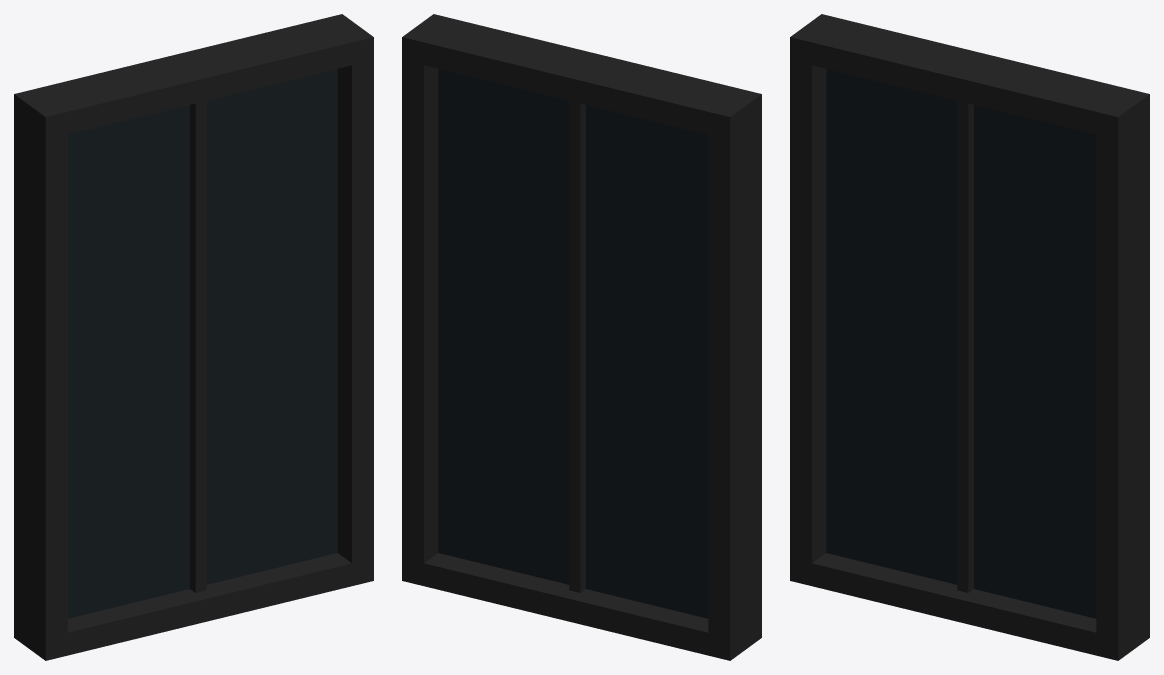
Rendered from OA_Window_1p2x1p9.fbx.
The picture shows the model from 3 angles, left to right: view 1: azimuth 30°, elevation 25°; view 2: azimuth 150°, elevation 25°; view 3: azimuth 330°, elevation 25°; orthographic projection.
Parts seen in each view (by area): view 1: OA_Window_1p2x1p9; view 2: OA_Window_1p2x1p9; view 3: OA_Window_1p2x1p9.
Boxes of the visible parts, <box> form: OA_Window_1p2x1p9: <box>14,14,373,660</box>; OA_Window_1p2x1p9: <box>402,14,761,660</box>; OA_Window_1p2x1p9: <box>790,14,1149,660</box>.
Size of the model in its own units: 1.2 by 1.9 by 0.2.
2 materials, 2 textured.
